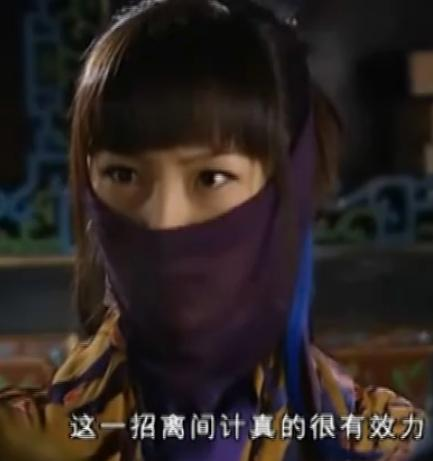WRONG: (100, 143, 266, 309)
